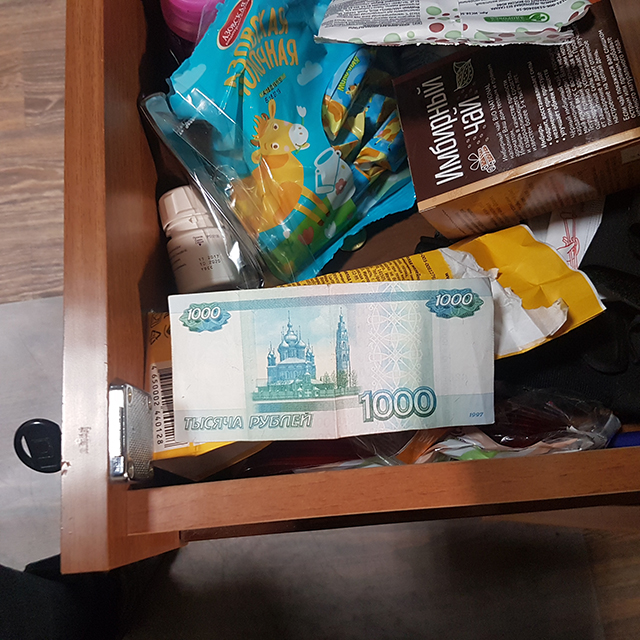banknotes: (168, 280, 495, 439)
